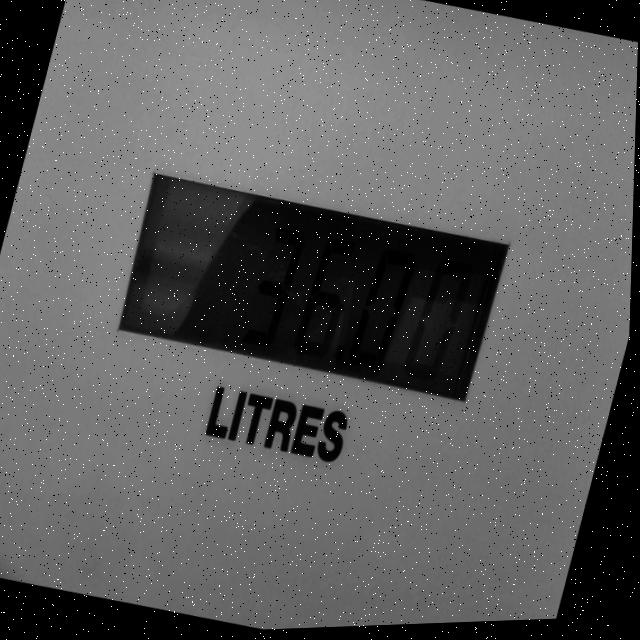.: (322, 321, 360, 380)
0: (397, 252, 484, 411), (343, 240, 425, 375)
3: (239, 214, 313, 357)
6: (279, 224, 368, 384)
